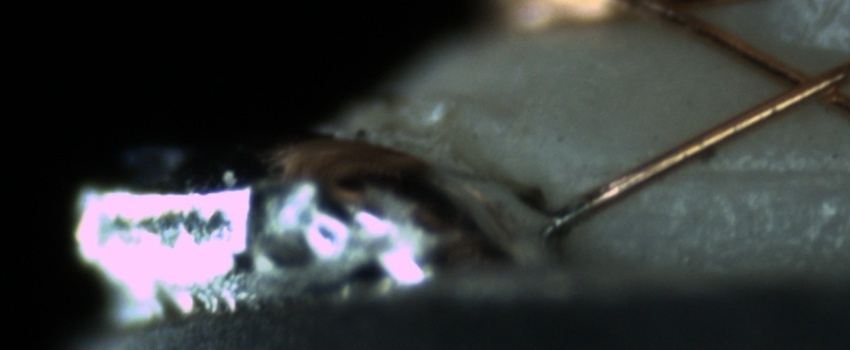CL: (756, 50, 847, 116)
DL: (671, 141, 849, 202)
TS: (551, 194, 590, 231)
